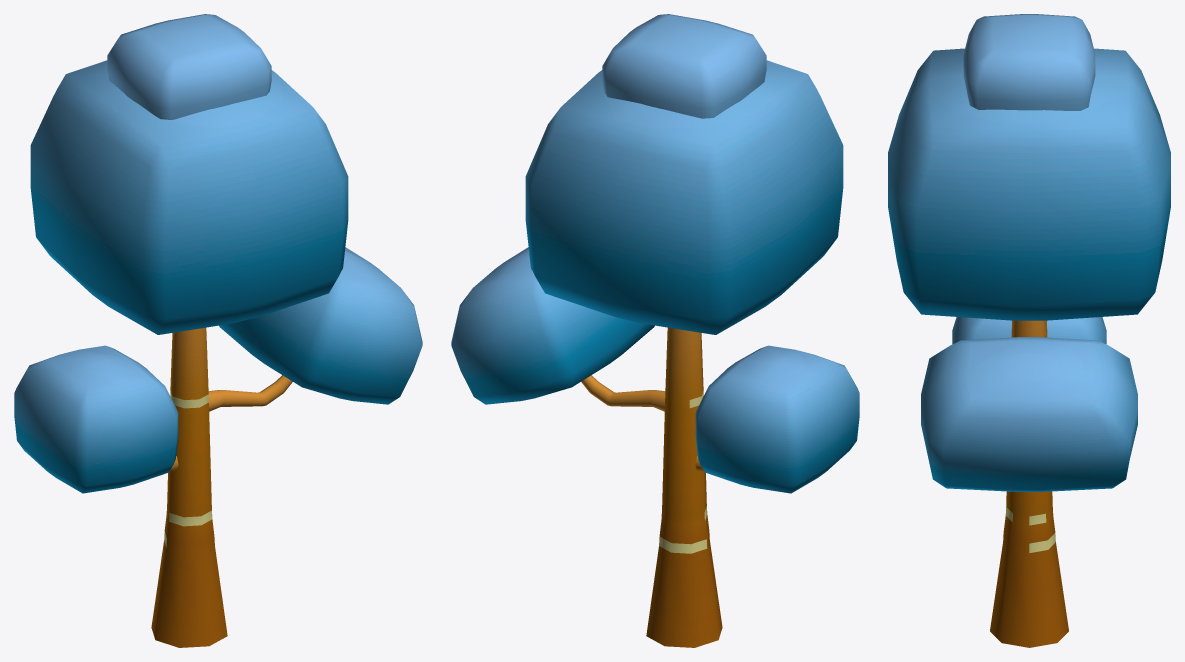
File: blue-2.fbx
The picture shows the model from 3 angles, left to right: view 1: azimuth 30°, elevation 25°; view 2: azimuth 150°, elevation 25°; view 3: azimuth 270°, elevation 25°; orthographic projection.
Parts seen in each view (by area): view 1: Cylinder.002; view 2: Cylinder.002; view 3: Cylinder.002.
Part boxes in pixels (bbox=[...]): Cylinder.002: bbox=[14, 14, 422, 647]; Cylinder.002: bbox=[451, 14, 859, 647]; Cylinder.002: bbox=[888, 14, 1170, 647].
Bounding box in the file's own units: 122 × 203 × 86.55.
